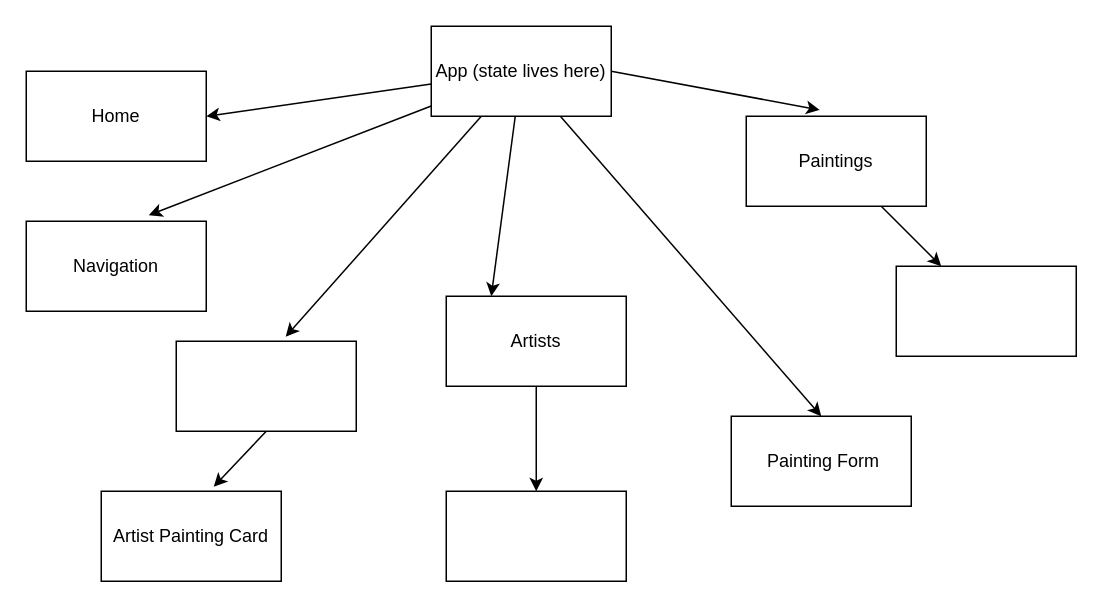
The diagram is 1103 pixels wide and 608 high, and some of its shapes have lost their labels. Here are the shapes that lost their labels. From the top down, the centre of each, then its label:
At (x=985, y=310): "Painting Card".
At (x=265, y=385): "Artists Paintings".
At (x=535, y=535): "Artist Card".
